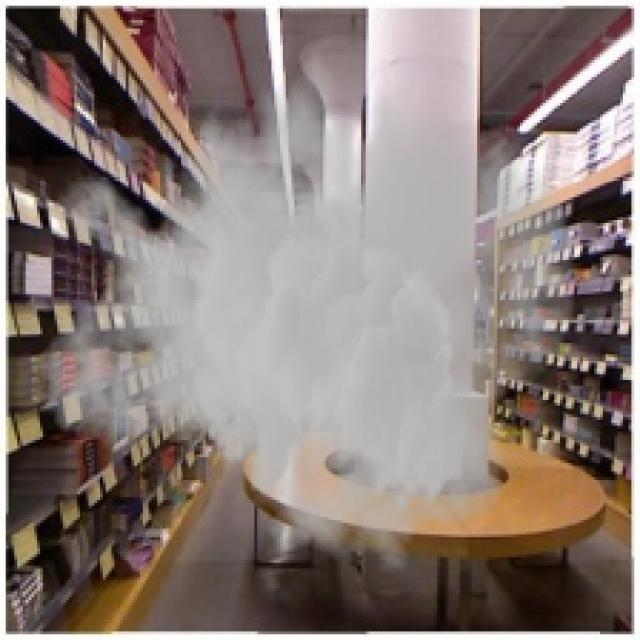smoke: (37, 23, 577, 574)
